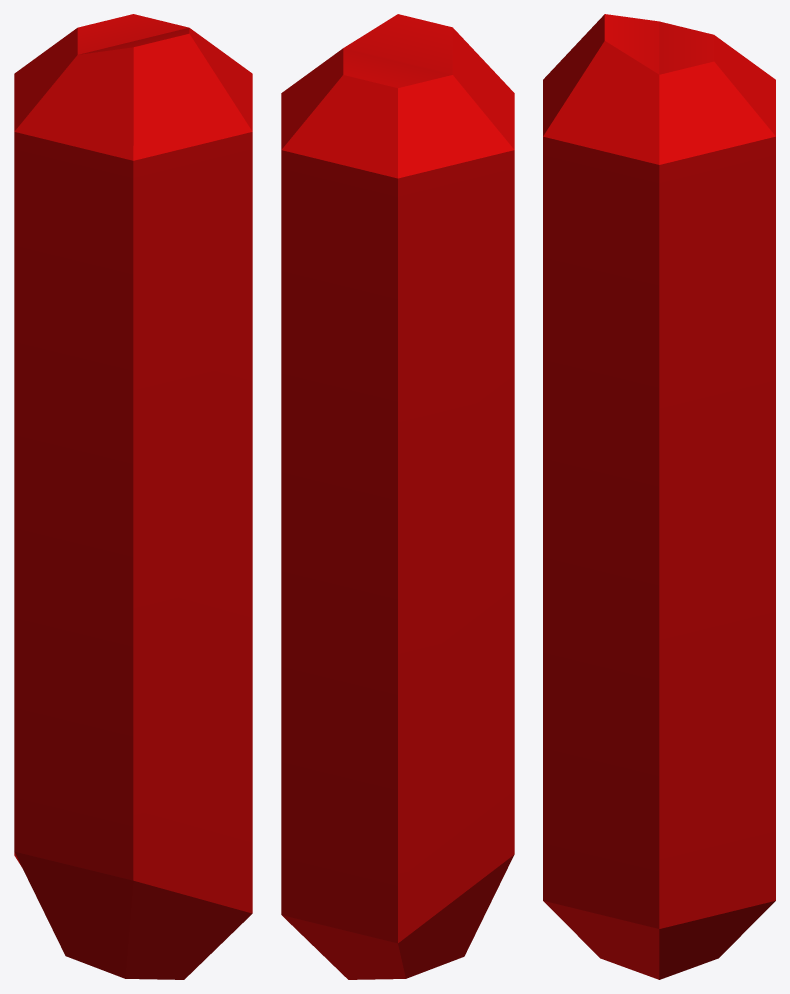
The model's file is geology-crystals-coloredcrystal_v3.fbx.
The picture shows the model from 3 angles, left to right: view 1: azimuth 30°, elevation 25°; view 2: azimuth 150°, elevation 25°; view 3: azimuth 270°, elevation 25°; orthographic projection. The views are drawn at different scales.
Parts seen in each view (by area): view 1: ColoredCrystal_v3; view 2: ColoredCrystal_v3; view 3: ColoredCrystal_v3.
Boxes of the visible parts, x1,y1,x2,y2 form: ColoredCrystal_v3: (14,14,252,979); ColoredCrystal_v3: (281,14,514,979); ColoredCrystal_v3: (543,14,775,979).
Size of the model in its own units: 1.5 by 5.71 by 1.3.
